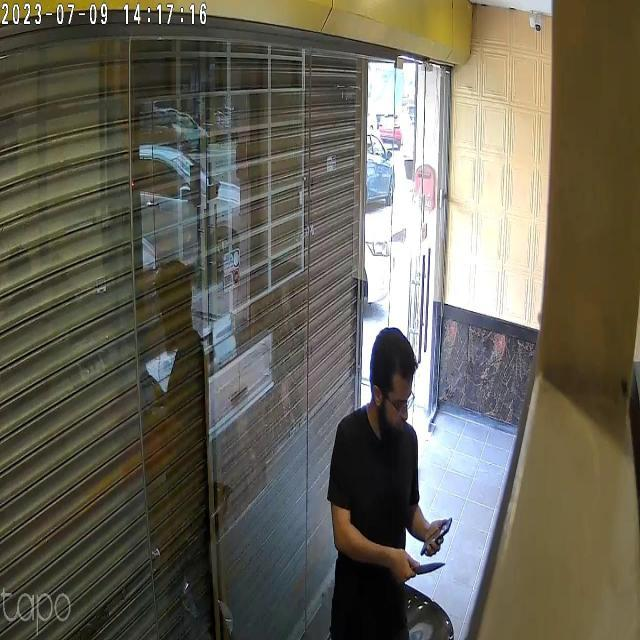Knife: (407, 549, 451, 588)
